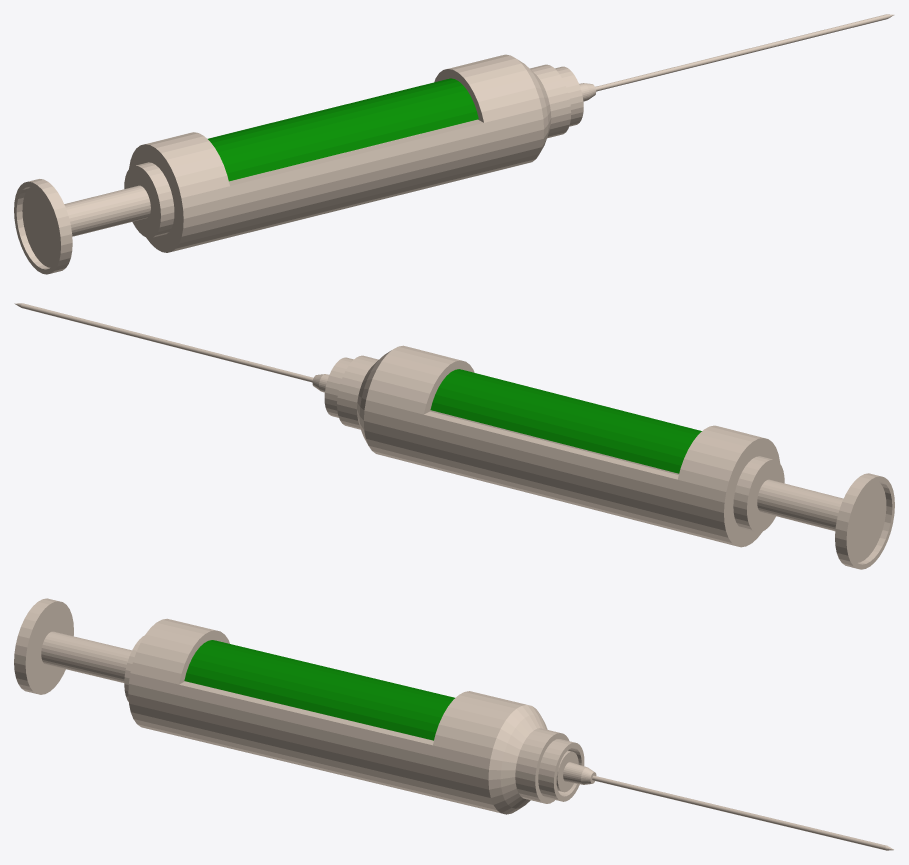
File: İğne2.fbx
The picture shows the model from 3 angles, top to bottom: view 1: azimuth 30°, elevation 25°; view 2: azimuth 150°, elevation 25°; view 3: azimuth 330°, elevation 25°; orthographic projection.
Parts seen in each view (by area): view 1: Cylinder.013; view 2: Cylinder.013; view 3: Cylinder.013.
Part boxes in pixels (left/top/right/bottom): Cylinder.013: left=14, top=14, right=894, bottom=274; Cylinder.013: left=14, top=303, right=894, bottom=569; Cylinder.013: left=14, top=598, right=893, bottom=850.
Bounding box in the file's own units: 127 × 14.73 × 14.64.
